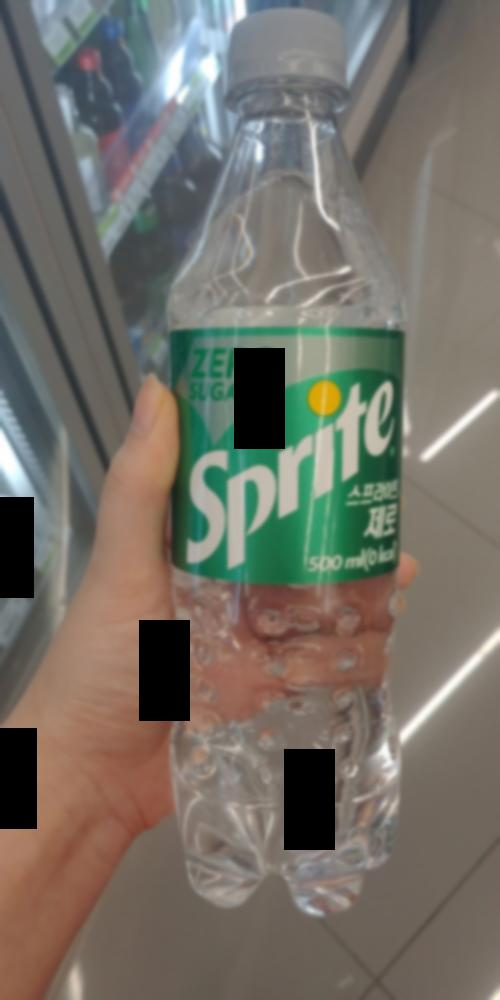sprite_zero: (131, 0, 420, 934)
